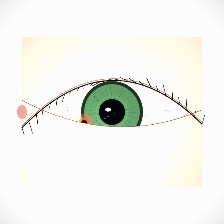foreign_body_visible: (69, 110, 99, 134)
